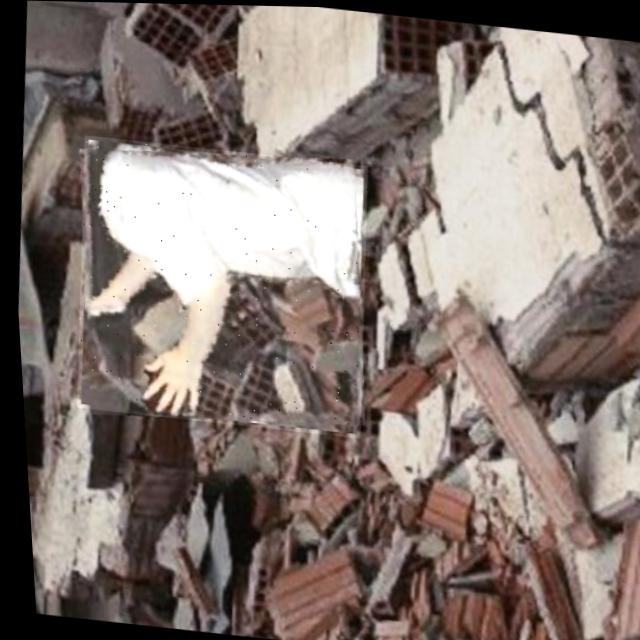Person in Rubble: (59, 133, 379, 436)
